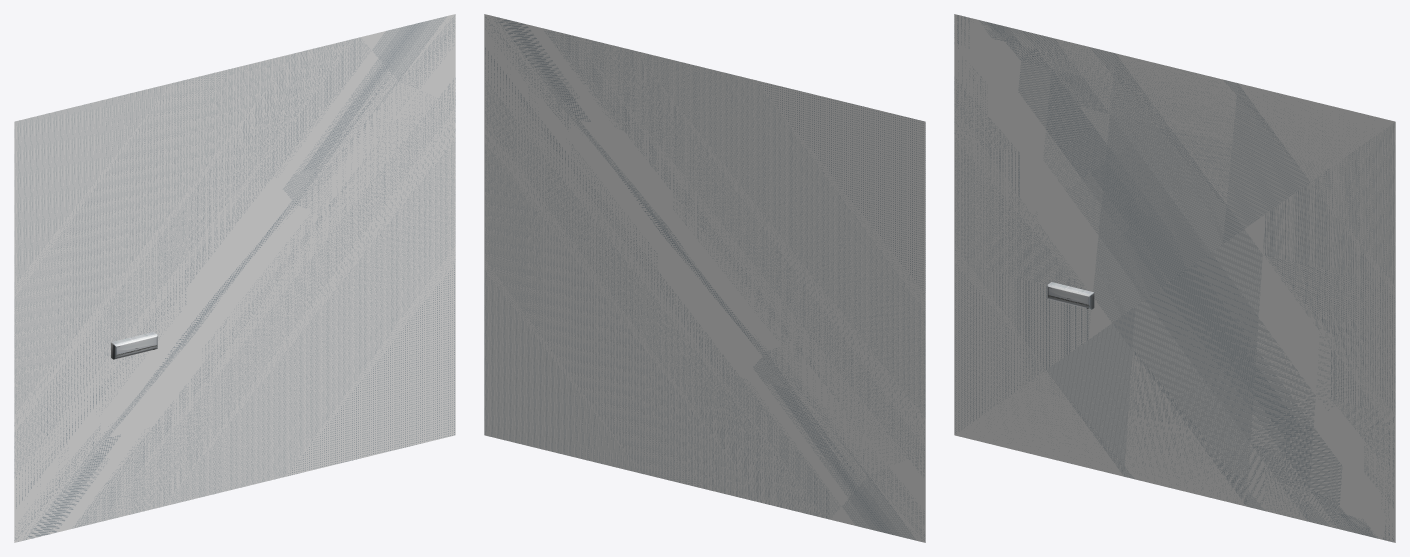
The picture shows the model from 3 angles, left to right: view 1: azimuth 30°, elevation 25°; view 2: azimuth 150°, elevation 25°; view 3: azimuth 330°, elevation 25°; orthographic projection.
Visible parts, largest first — view 1: SketchUp, Group_1; view 2: SketchUp; view 3: SketchUp, Group_1.
Part boxes in pixels (x1,y1,x2,y2): SketchUp: (14, 14, 455, 542); Group_1: (111, 332, 157, 359); SketchUp: (484, 14, 925, 542); SketchUp: (954, 14, 1395, 542); Group_1: (1047, 282, 1094, 309).
Size of the model in its own units: 456 by 7.35 by 416.
